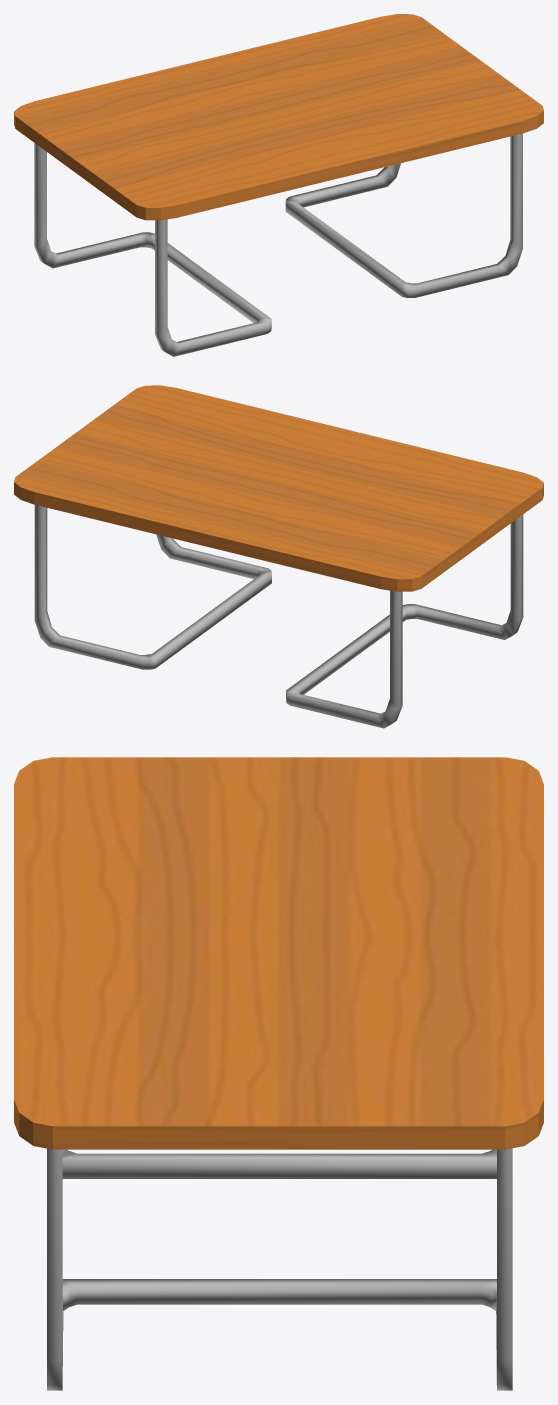
File: Table4.fbx
3 renders of one model, top to bottom at view 1: azimuth 30°, elevation 25°; view 2: azimuth 150°, elevation 25°; view 3: azimuth 270°, elevation 25°, orthographic. The views are drawn at different scales.
Parts seen in each view (by area): view 1: Table4; view 2: Table4; view 3: Table4.
Boxes of the visible parts, x1,y1,x2,y2 form: Table4: (14,14,543,356); Table4: (14,385,543,728); Table4: (14,757,543,1390).
Size of the model in its own units: 2488 by 1510 by 933.
